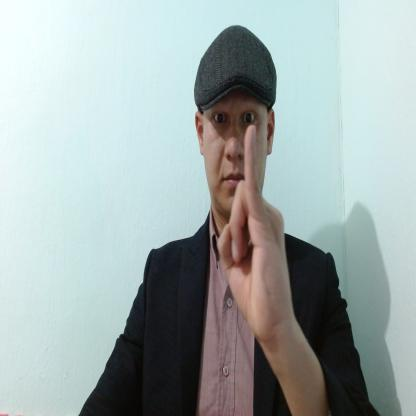I: (216, 122, 294, 346)
